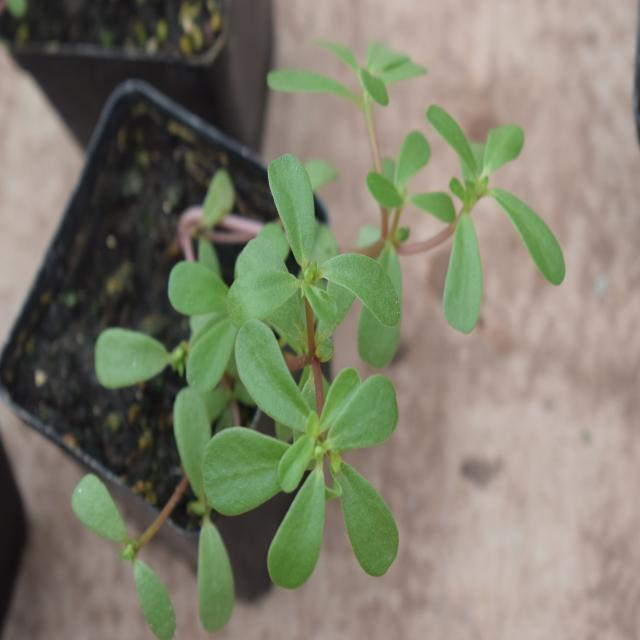purslane: (108, 41, 540, 611)
